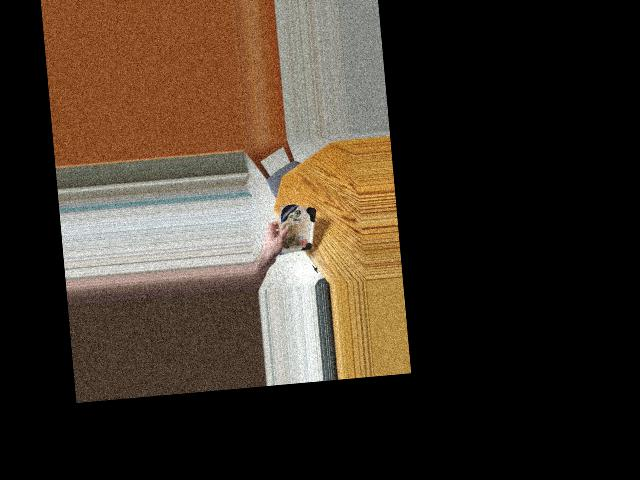cheese: (275, 199, 316, 261)
